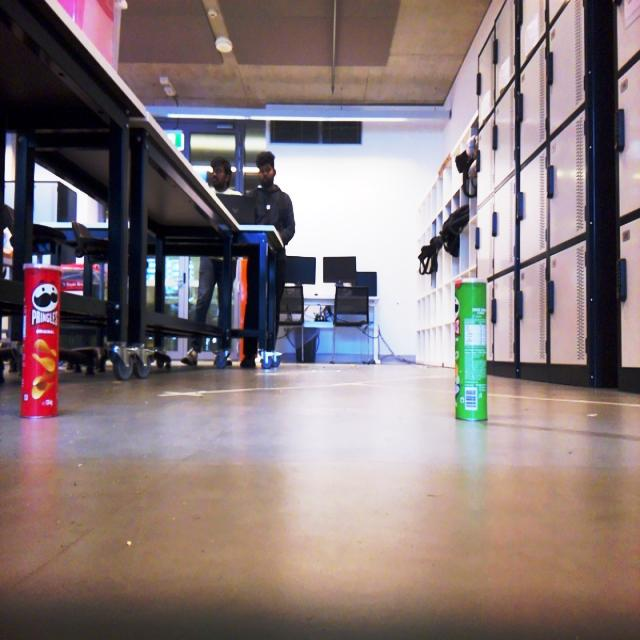greenpringles: (441, 266, 500, 433)
redpringles: (16, 256, 74, 424)
